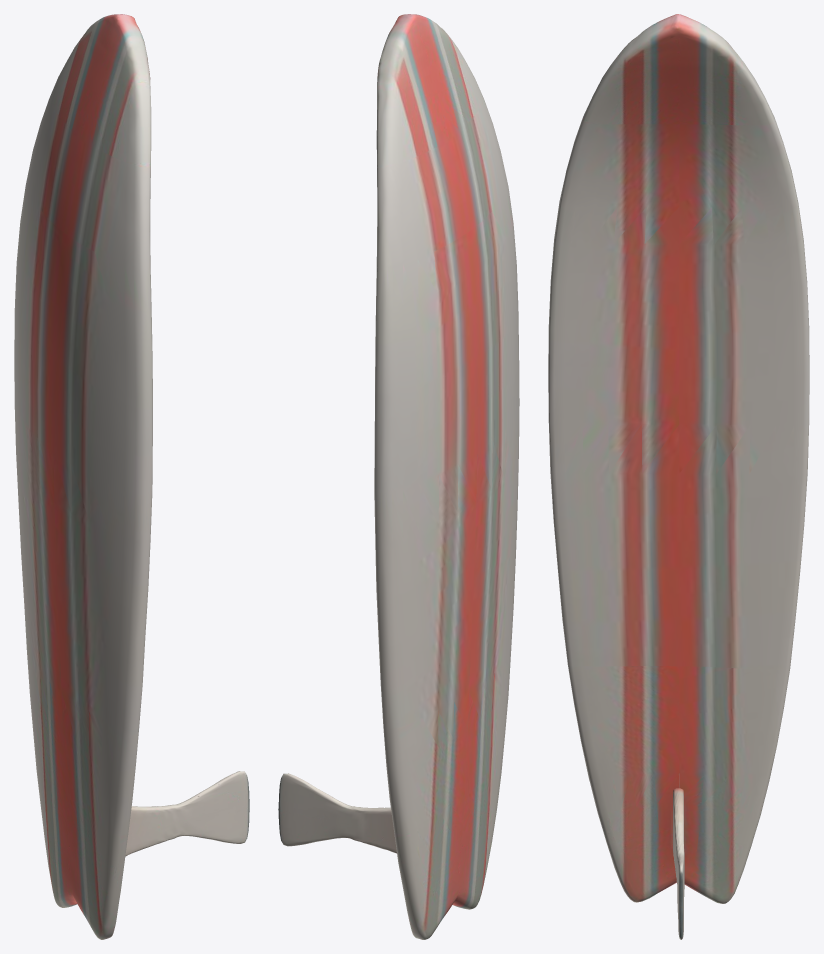
The model's file is surfboard.glb.
The picture shows the model from 3 angles, left to right: view 1: azimuth 30°, elevation 25°; view 2: azimuth 150°, elevation 25°; view 3: azimuth 270°, elevation 25°; orthographic projection.
Visible parts, largest first — view 1: tripo_node_c2f0ca05-fe3a-47a4-ac3c-0a26a3eac1ab; view 2: tripo_node_c2f0ca05-fe3a-47a4-ac3c-0a26a3eac1ab; view 3: tripo_node_c2f0ca05-fe3a-47a4-ac3c-0a26a3eac1ab.
Part boxes in pixels (x1,y1,x2,y2): tripo_node_c2f0ca05-fe3a-47a4-ac3c-0a26a3eac1ab: [14, 14, 249, 939]; tripo_node_c2f0ca05-fe3a-47a4-ac3c-0a26a3eac1ab: [278, 14, 519, 939]; tripo_node_c2f0ca05-fe3a-47a4-ac3c-0a26a3eac1ab: [548, 14, 809, 939].
Bounding box in the file's own units: 0.2749 × 1.2 × 0.3148.
Materials: 1 (1 with a texture image).
